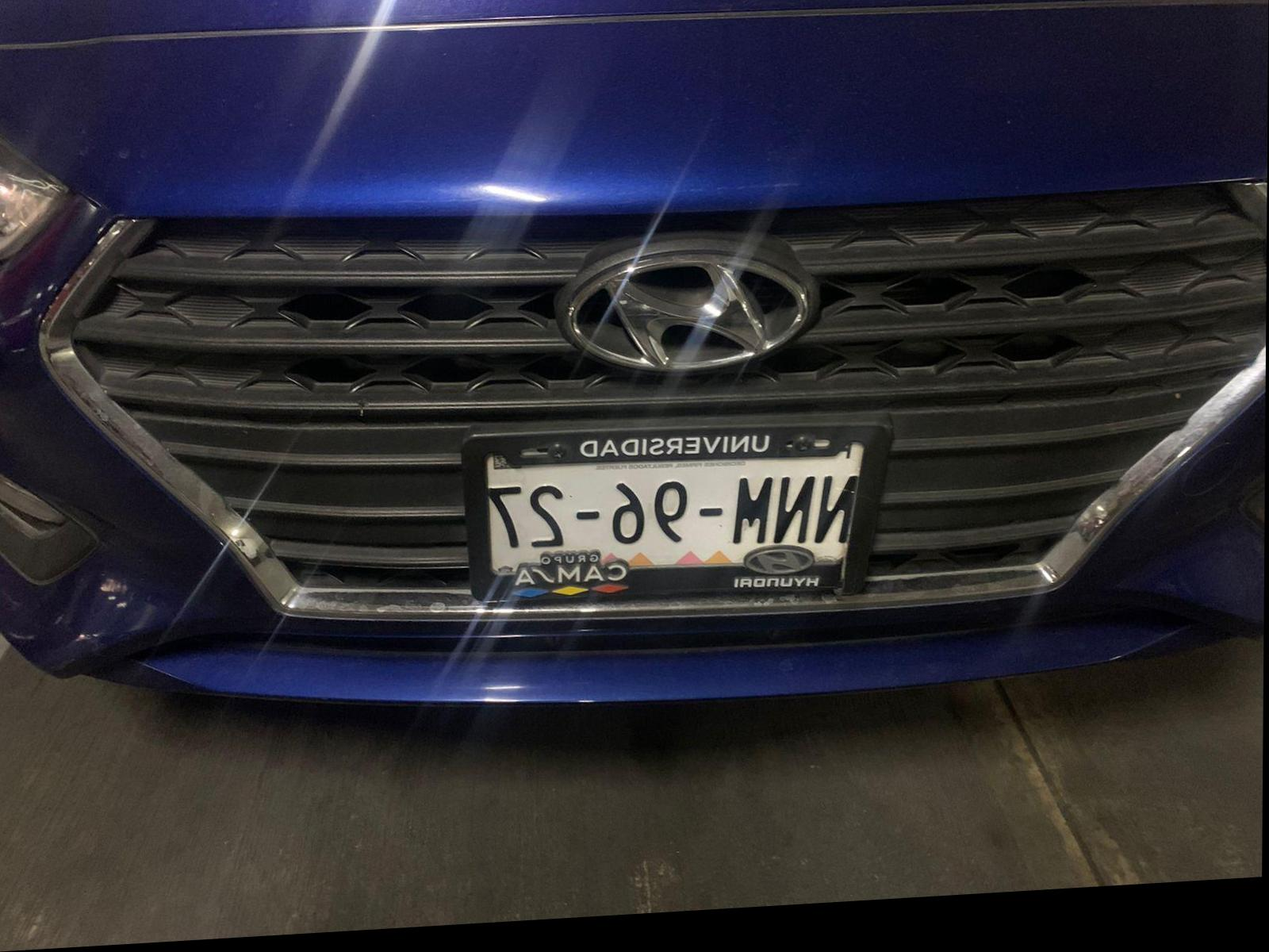License_Plate: (457, 415, 891, 628)
